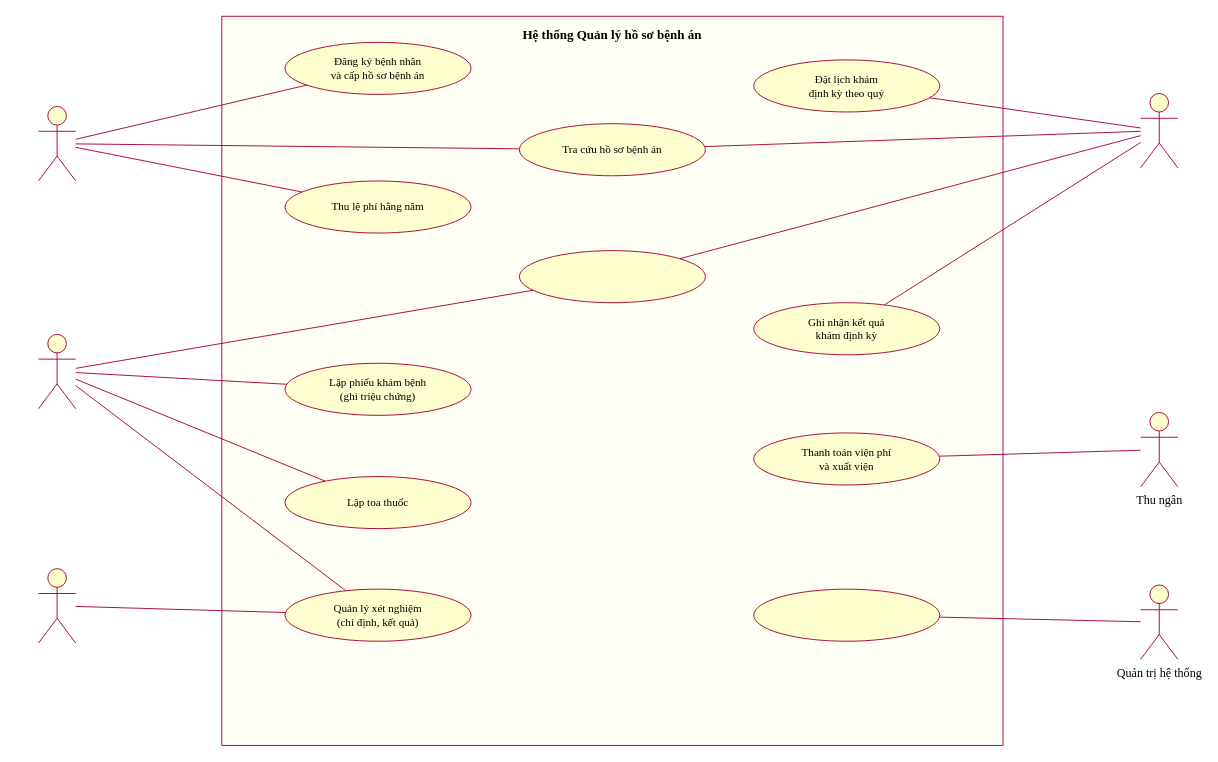
The diagram is 1218 pixels wide and 762 high, and some of its shapes have lost their labels. Each missing label, with the centre of its shape:
"Bác sĩ" belongs at (57,371).
"KTV xét nghiệm" belongs at (57,605).
"NV chăm sóc KH" belongs at (1159,130).
"NV tiếp nhận" belongs at (57,143).
"Quản lý danh mục (Khoa, Bác sĩ, Thuốc)" belongs at (846,614).
"Xem lịch sử điều trị" belongs at (611,276).
